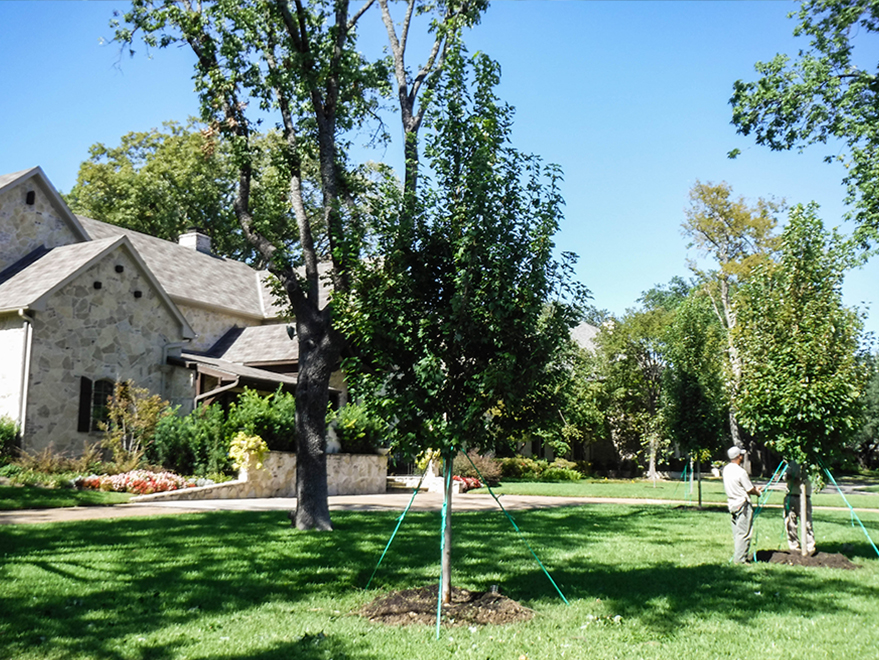tree: (127, 7, 481, 519), (333, 87, 580, 603), (707, 199, 862, 563)
